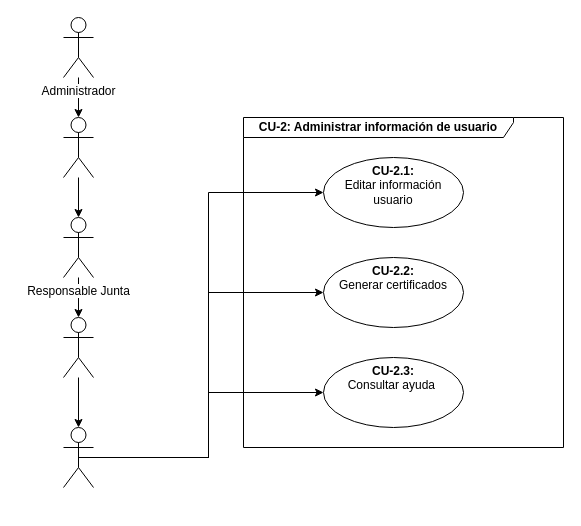
This 581x526 diagram has some shape labels left out. The shapes that lost their labels are listed below. From the top down, each one's centre as x and y in pixels, then its label:
At point (78, 147): "Responsable Centro".
At point (78, 347): "Responsable Comisión".
At point (78, 457): "Usuario registrado".
